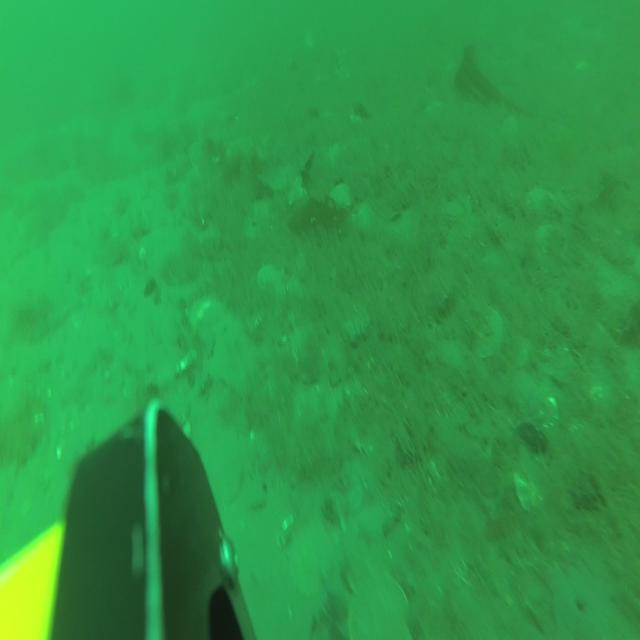scallop: (349, 571, 412, 640), (291, 518, 333, 599), (199, 445, 242, 509), (474, 306, 504, 356), (187, 296, 226, 330), (258, 261, 283, 290), (330, 182, 352, 211)
